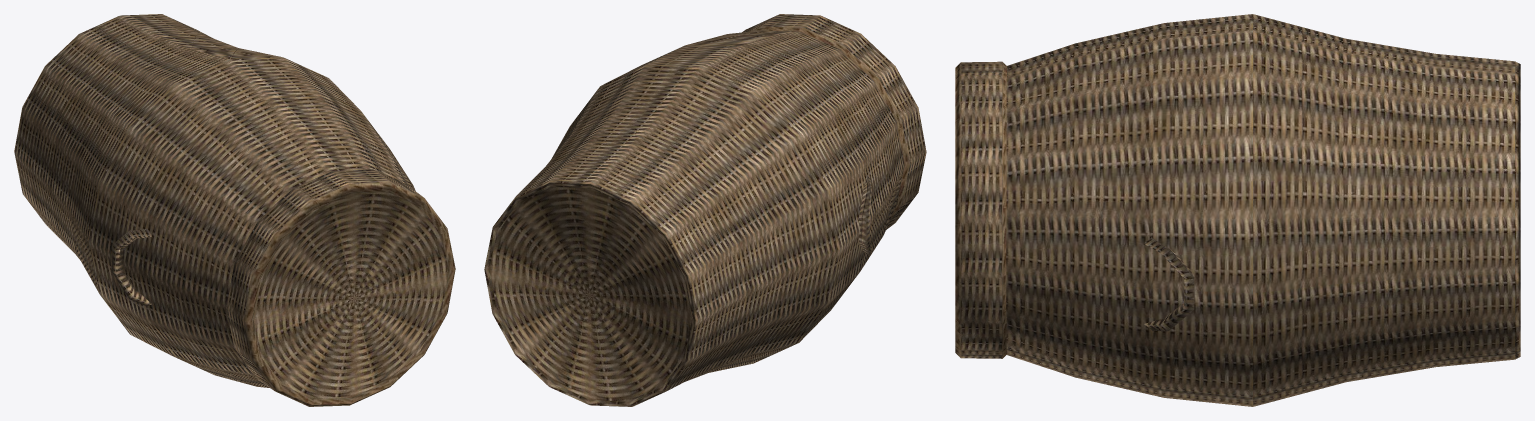
File: prop_rattanbasket5.glb
3 views of the same model, side by side, from view 1: azimuth 30°, elevation 25°; view 2: azimuth 150°, elevation 25°; view 3: azimuth 270°, elevation 25° (orthographic). The views are drawn at different scales.
Size of the model in its own units: 35.07 by 34.84 by 50.1.
1 material, 1 textured.
